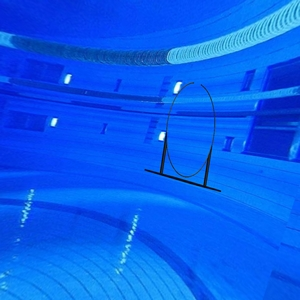circle: (143, 81, 223, 194)
